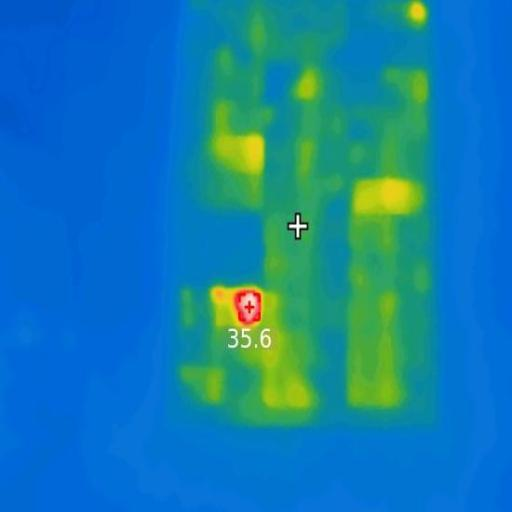hotspot: (232, 284, 267, 331)
